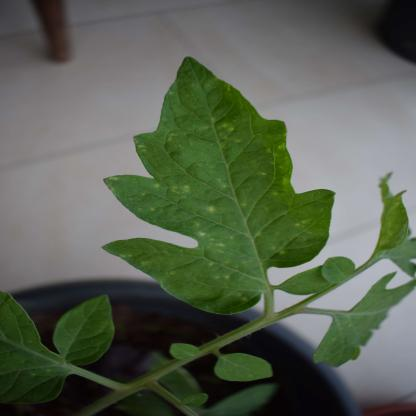Tomato mold leaf: (95, 45, 339, 313)
